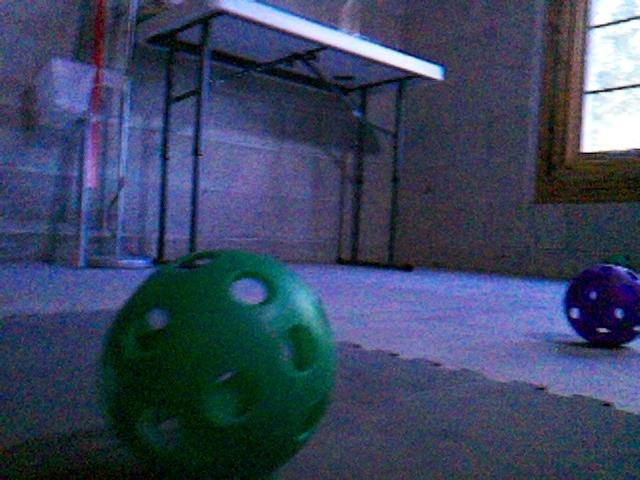Green: (99, 246, 335, 477)
Purple: (563, 263, 639, 346)
